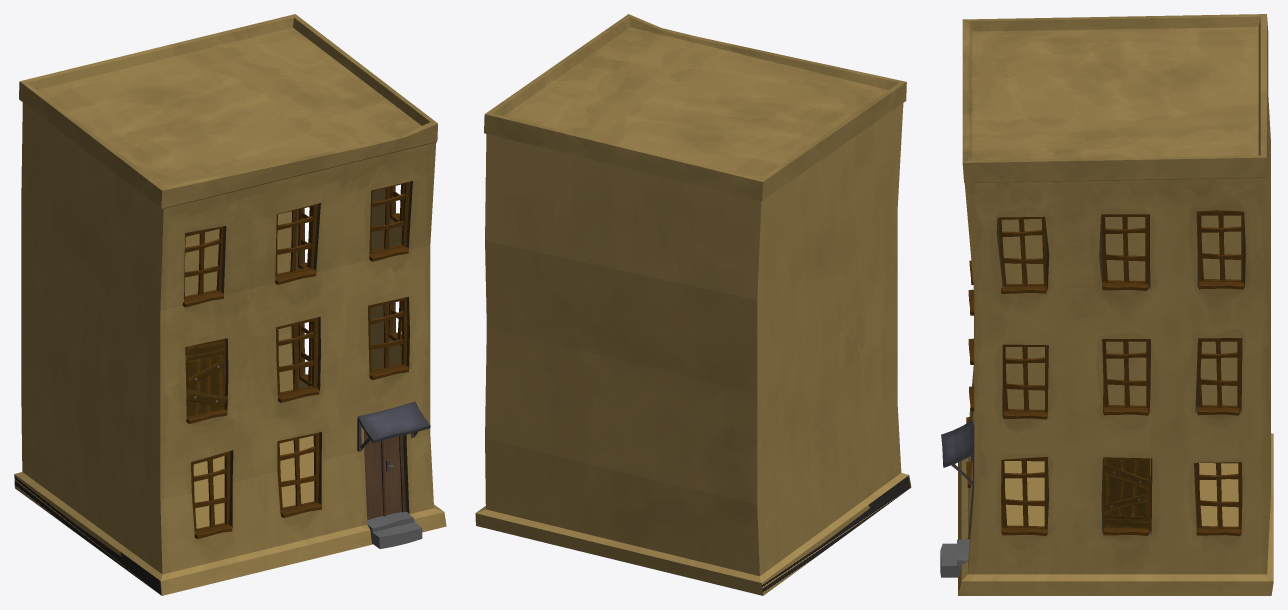
File: house-base-2.fbx
3 views of the same model, side by side, from view 1: azimuth 30°, elevation 25°; view 2: azimuth 150°, elevation 25°; view 3: azimuth 270°, elevation 25° (orthographic). The views are drawn at different scales.
Visible parts, largest first — view 1: Cube.078; view 2: Cube.078; view 3: Cube.078.
Boxes of the visible parts, left/top/right/bottom form: Cube.078: left=14, top=14, right=446, bottom=595; Cube.078: left=475, top=14, right=911, bottom=595; Cube.078: left=940, top=14, right=1273, bottom=595.
Bounding box in the file's own units: 327 × 449 × 312.
